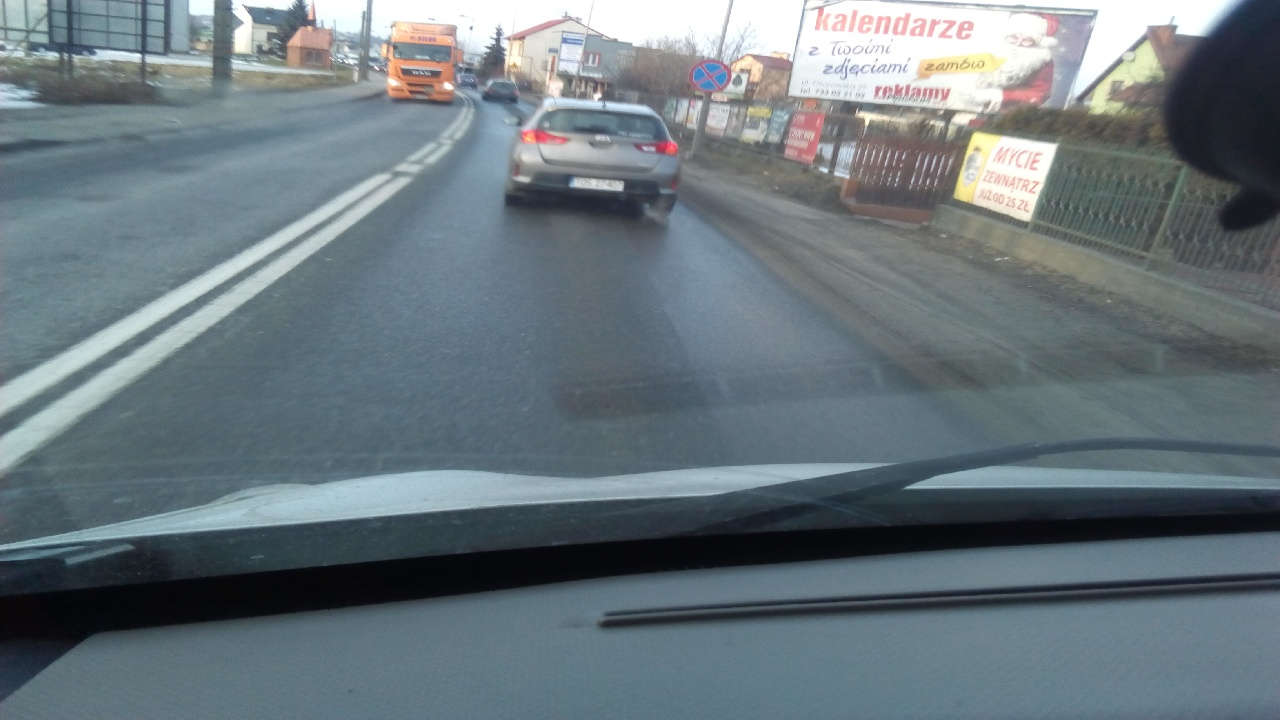B35: (688, 50, 732, 100)
